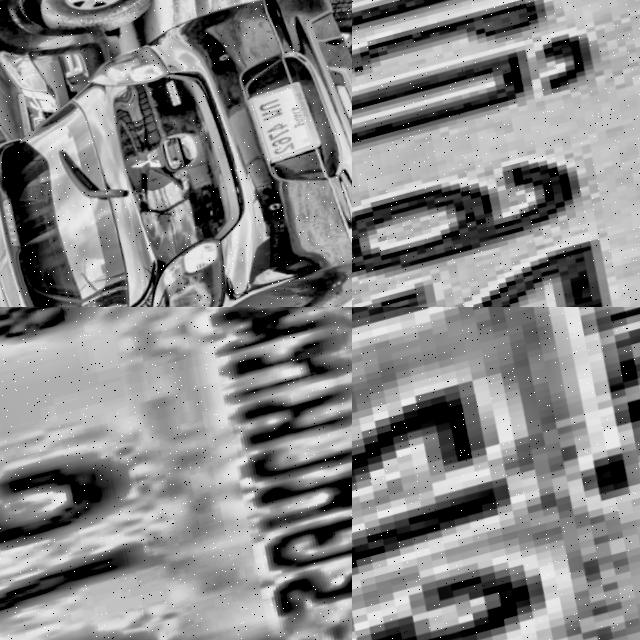license-plate: (0, 307, 352, 640), (352, 307, 640, 640), (352, 0, 640, 307), (242, 77, 332, 169)
